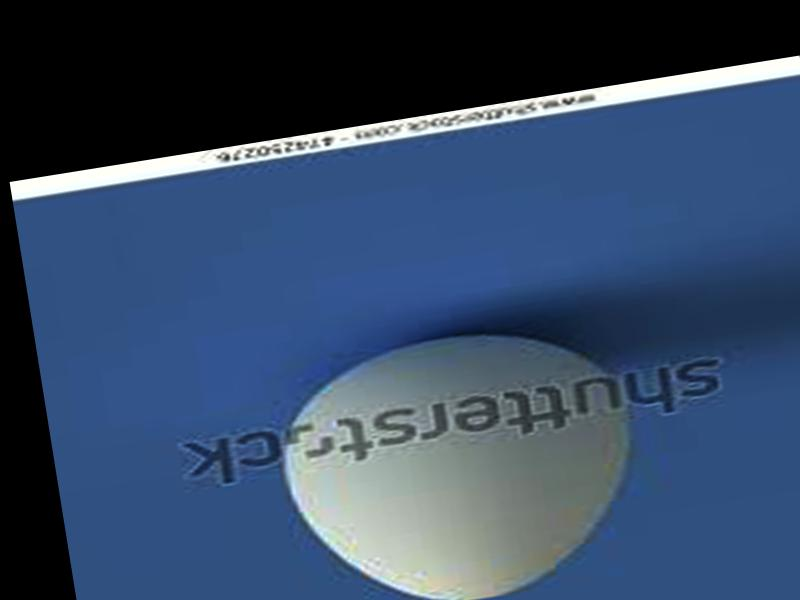Eggs: (266, 308, 653, 600)
